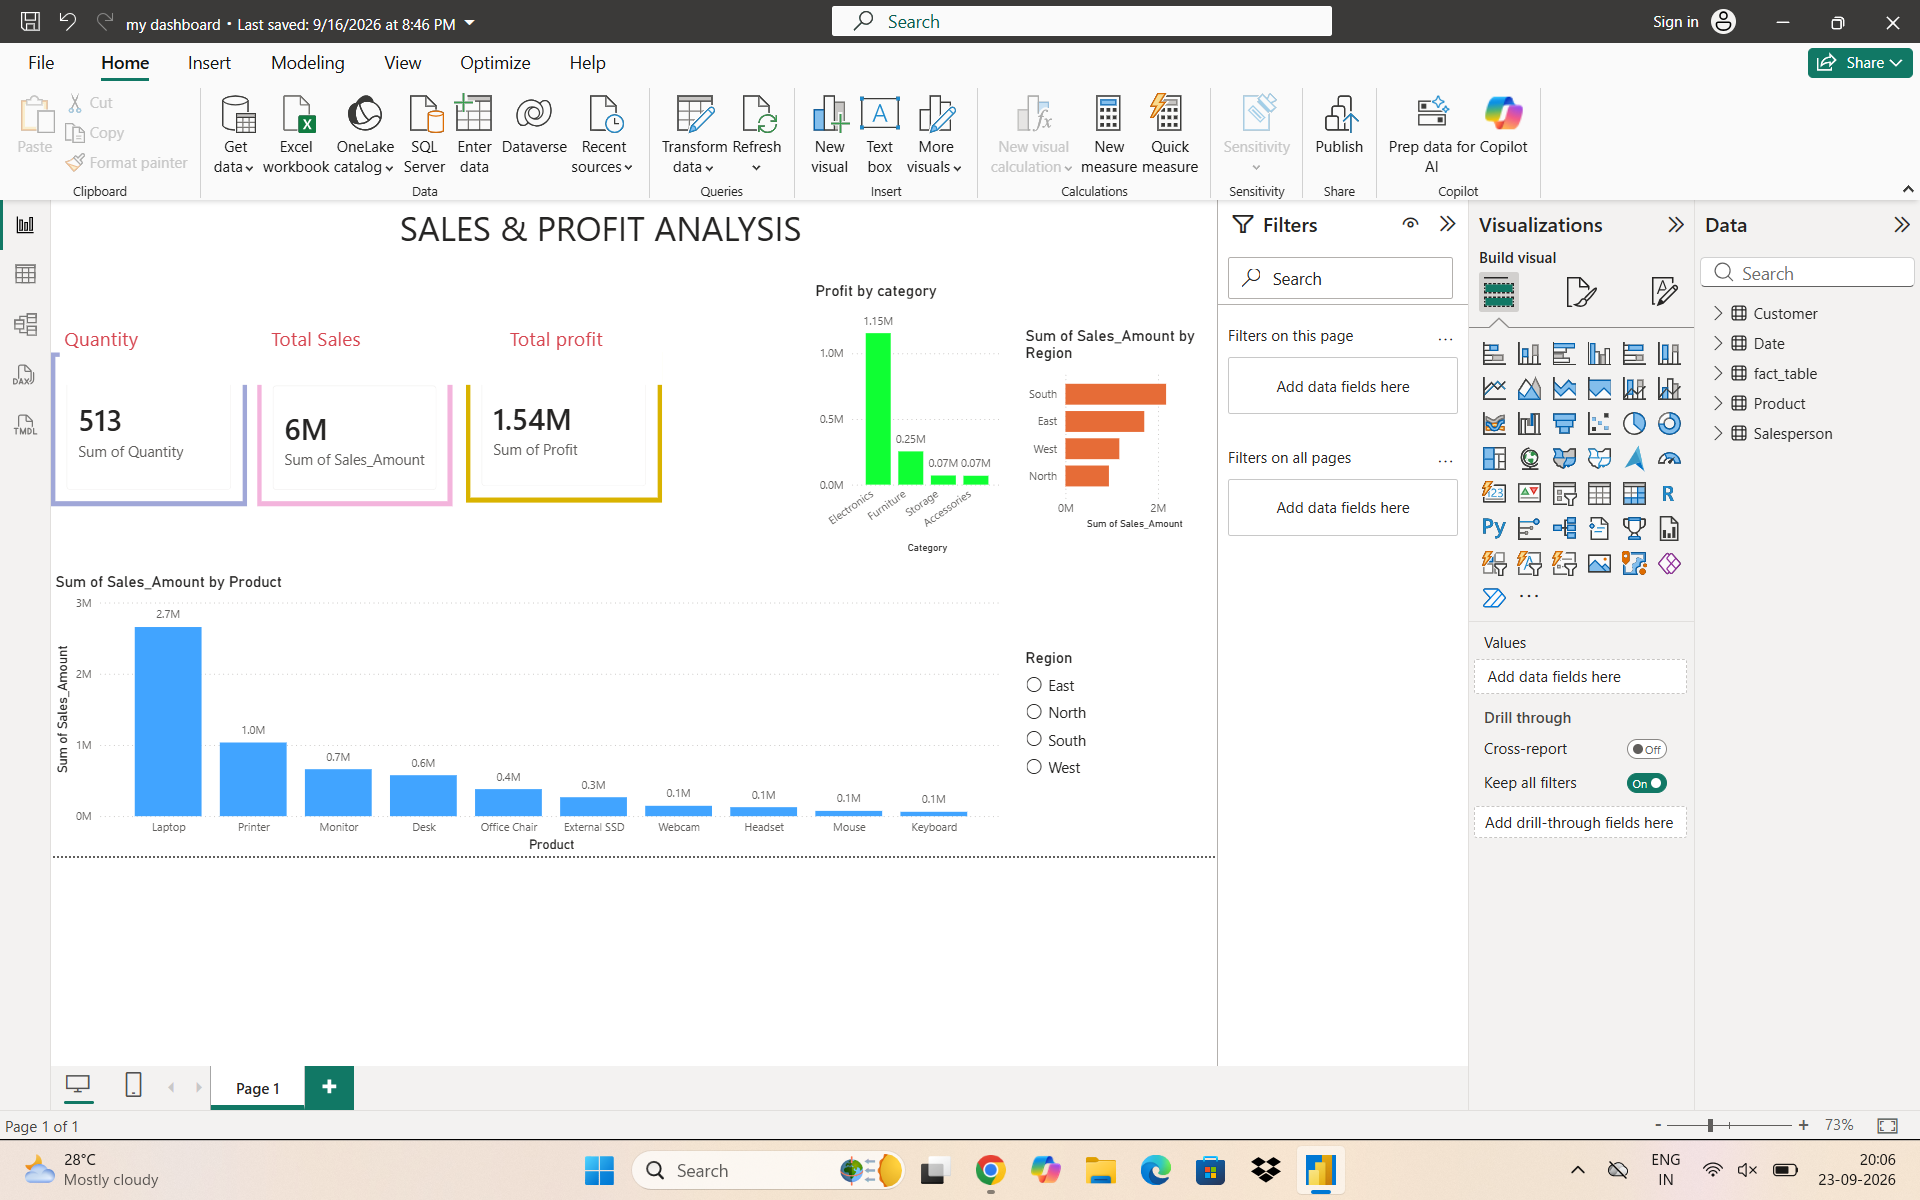

What the dashboard file says about the page in this screenshot:
{"tool":"powerbi","page":{"name":"Page 1","canvas":[1280,720],"ordinal":0},"visuals":[{"type":"cardVisual","fields":{"Data":["Sum(fact_table.Profit)"]},"box":[455.6,167.4,215.4,164.7],"z":1},{"type":"clusteredColumnChart","title":"Profit by category","fields":{"Category":["fact_table.Category"],"Y":["Sum(fact_table.Profit)"]},"box":[834.3,89.2,215.4,303.3],"z":2},{"type":"barChart","fields":{"Category":["fact_table.Region"],"Y":["Sum(fact_table.Sales_Amount)"]},"box":[1064.8,138.6,215.4,227.8],"z":3},{"type":"listSlicer","fields":{"Values":["fact_table.Region"]},"box":[1064.8,492.6,215.4,227.8],"z":4},{"type":"cardVisual","fields":{"Data":["Sum(fact_table.Quantity)"]},"box":[0,167.4,215.4,168.8],"z":5},{"type":"clusteredColumnChart","fields":{"Category":["fact_table.Product"],"Y":["Sum(fact_table.Sales_Amount)"]},"box":[0,408.9,1049.7,311.5],"z":6},{"type":"textbox","box":[9.6,0,872.7,79.6],"z":11},{"type":"cardVisual","fields":{"Data":["Sum(fact_table.Sales_Amount)"]},"box":[226.4,186.6,214.1,149.6],"z":12},{"type":"textbox","box":[9.6,131.7,661.4,71.4],"z":13}]}

Visuals, with their boxes on the page's 1280x720 design canvas (x1, y1, x2, y2). These are canvas units, not pixel positions in the 1920x1200 screenshot, which may show the page scaled, cropped or inside an application window:
cardVisual - Sum(fact_table.Profit): 456,167,671,332
"Profit by category" clusteredColumnChart: 834,89,1050,392
barChart - fact_table.Region x Sum(fact_table.Sales_Amount): 1065,139,1280,366
listSlicer - fact_table.Region: 1065,493,1280,720
cardVisual - Sum(fact_table.Quantity): 0,167,215,336
clusteredColumnChart - fact_table.Product x Sum(fact_table.Sales_Amount): 0,409,1050,720
textbox: 10,0,882,80
cardVisual - Sum(fact_table.Sales_Amount): 226,187,440,336
textbox: 10,132,671,203
